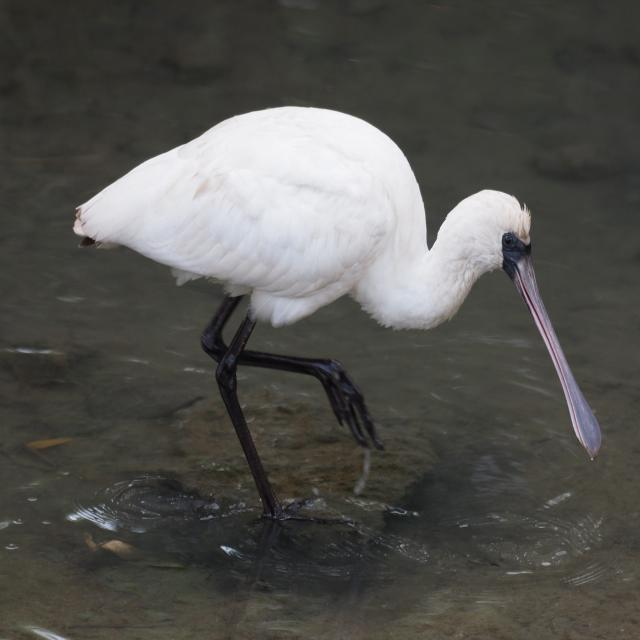Black-faced spoonbill: (75, 108, 600, 519)
